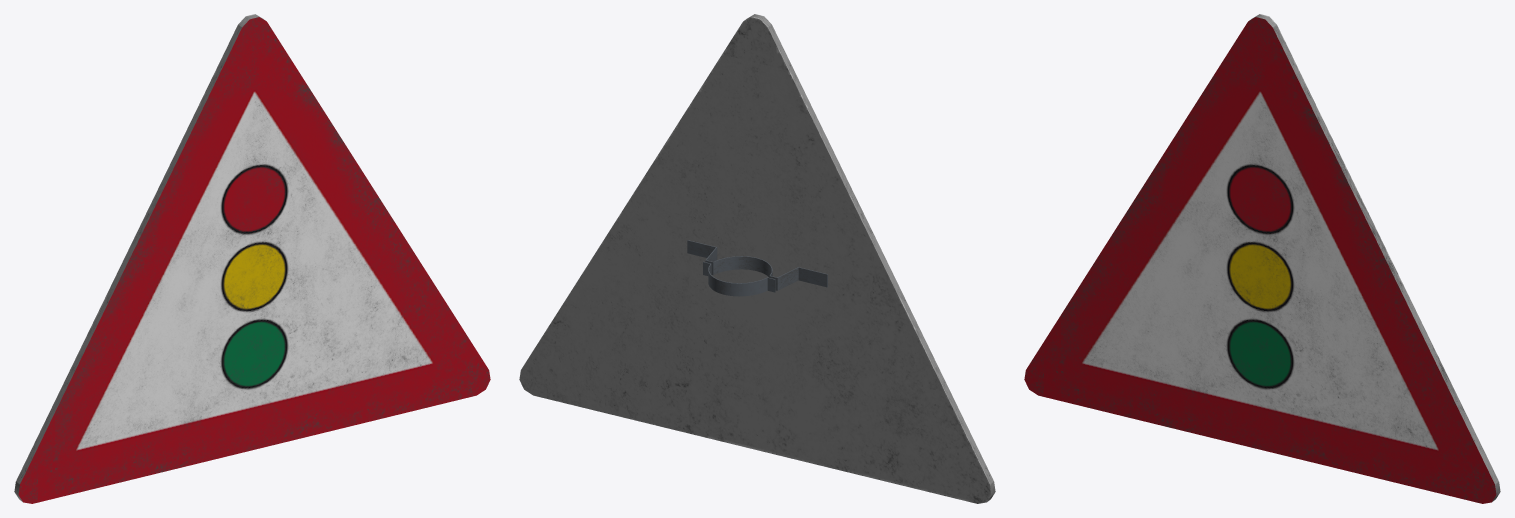
File: Sign-Traffic.fbx
The picture shows the model from 3 angles, left to right: view 1: azimuth 30°, elevation 25°; view 2: azimuth 150°, elevation 25°; view 3: azimuth 330°, elevation 25°; orthographic projection.
Parts seen in each view (by area): view 1: Sign_Traffic; view 2: Sign_Traffic; view 3: Sign_Traffic.
Part boxes in pixels (x1=…): Sign_Traffic: x1=14, y1=14, x2=490, y2=503; Sign_Traffic: x1=519, y1=14, x2=995, y2=503; Sign_Traffic: x1=1024, y1=14, x2=1500, y2=503.
Size of the model in its own units: 69.18 by 60.43 by 9.73.
